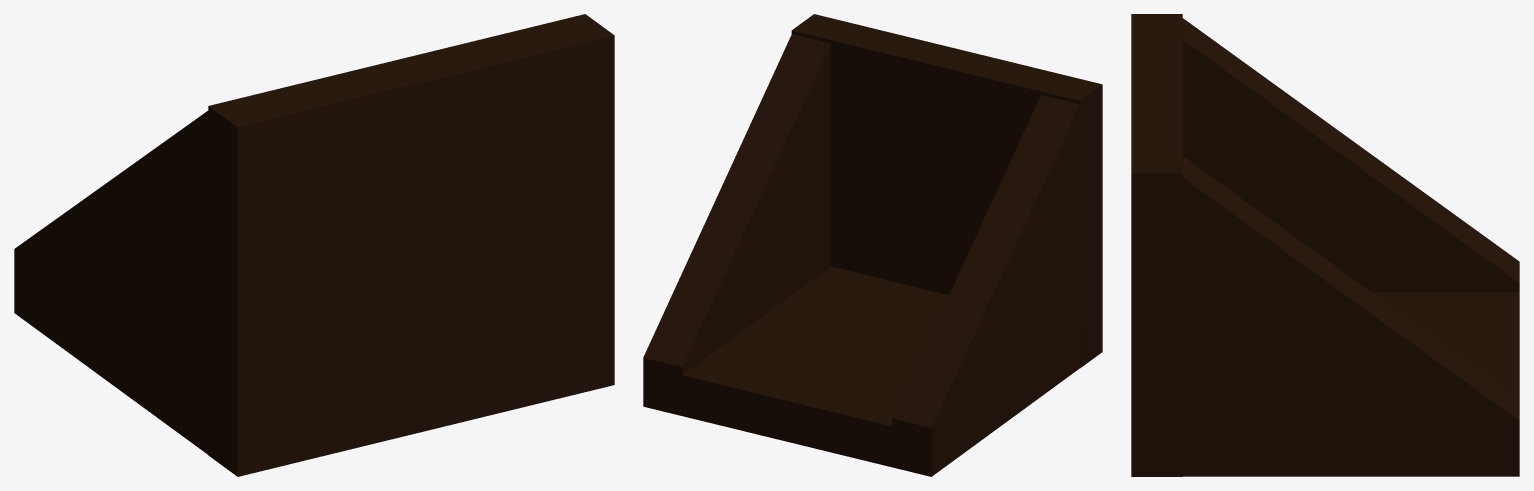
File: miska1.fbx
The picture shows the model from 3 angles, left to right: view 1: azimuth 30°, elevation 25°; view 2: azimuth 150°, elevation 25°; view 3: azimuth 270°, elevation 25°; orthographic projection. The views are drawn at different scales.
Visible parts, largest first — view 1: Miska (1) (×3); view 2: Miska (1) (×4); view 3: Miska (1) (×4).
Boxes of the visible parts, x1,y1,x2,y2 form: Miska (1) (×3): [14, 14, 614, 476]; Miska (1) (×4): [643, 14, 1102, 476]; Miska (1) (×4): [1131, 14, 1519, 476].
Size of the model in its own units: 12.27 by 10.87 by 12.61.
